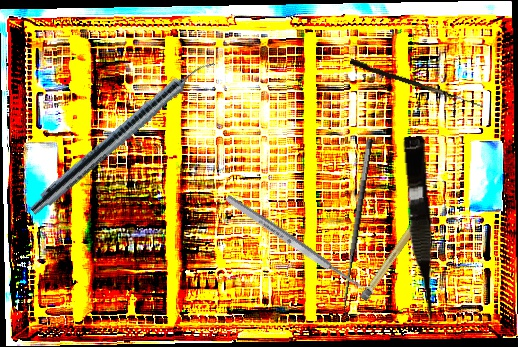Handpiece: (26, 50, 218, 222)
Hook Surgical: (336, 138, 387, 317), (348, 58, 486, 108)
Micro Scissor: (399, 135, 441, 328)
Scalpel Handle: (359, 203, 433, 302)
Surgical Spoon: (223, 193, 376, 300)
